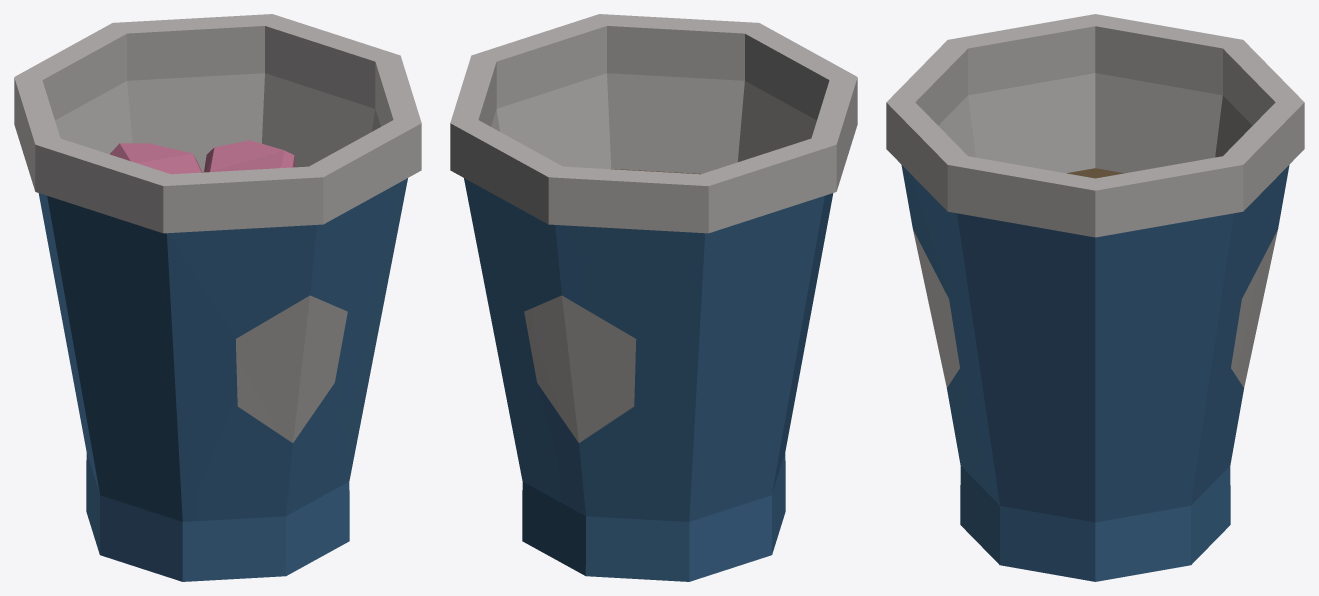
File: SM_Prop_Cup_Coffee_Disposable_Open_Mellow_01.glb
The picture shows the model from 3 angles, left to right: view 1: azimuth 30°, elevation 25°; view 2: azimuth 150°, elevation 25°; view 3: azimuth 270°, elevation 25°; orthographic projection.
Parts seen in each view (by area): view 1: SM_Prop_Cup_Coffee_Disposable_Open_Mellow_01; view 2: SM_Prop_Cup_Coffee_Disposable_Open_Mellow_01; view 3: SM_Prop_Cup_Coffee_Disposable_Open_Mellow_01.
Boxes of the visible parts, x1,y1,x2,y2 form: SM_Prop_Cup_Coffee_Disposable_Open_Mellow_01: (14, 14, 421, 581); SM_Prop_Cup_Coffee_Disposable_Open_Mellow_01: (450, 14, 857, 581); SM_Prop_Cup_Coffee_Disposable_Open_Mellow_01: (886, 14, 1304, 581).
Size of the model in its own units: 0.1636 by 0.1824 by 0.1636.
1 material, 1 textured.
